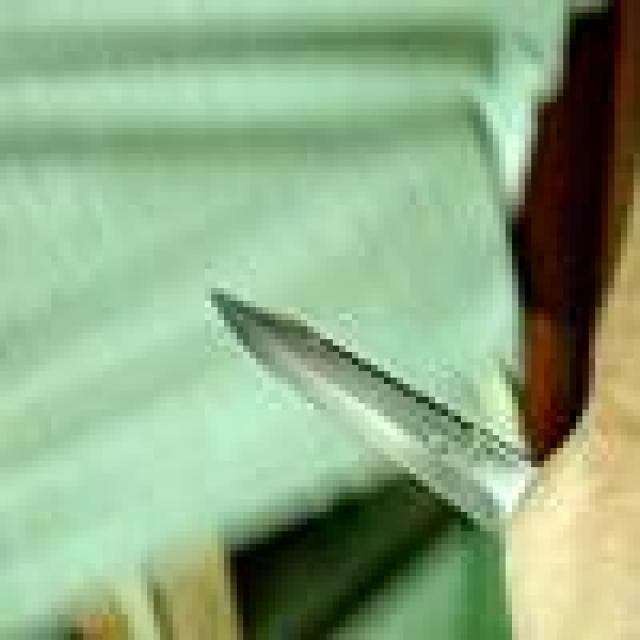knife: (203, 286, 525, 526)
